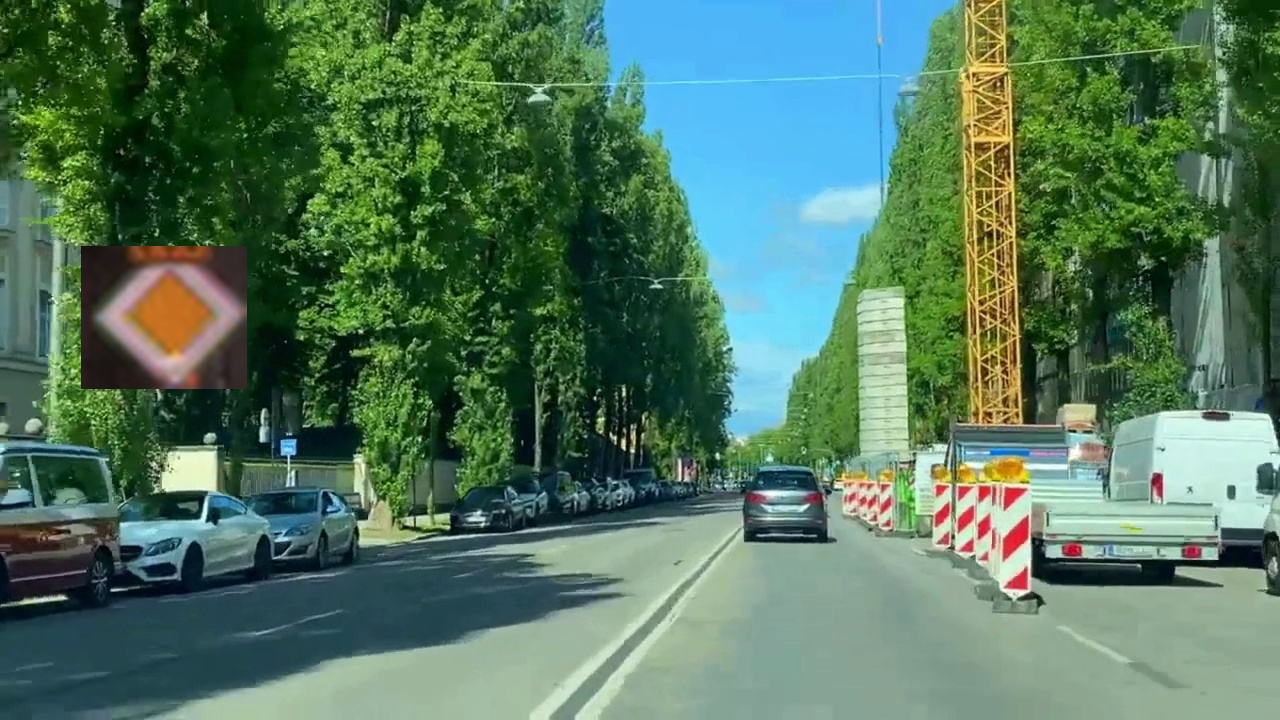Priority road: (81, 246, 247, 389)
